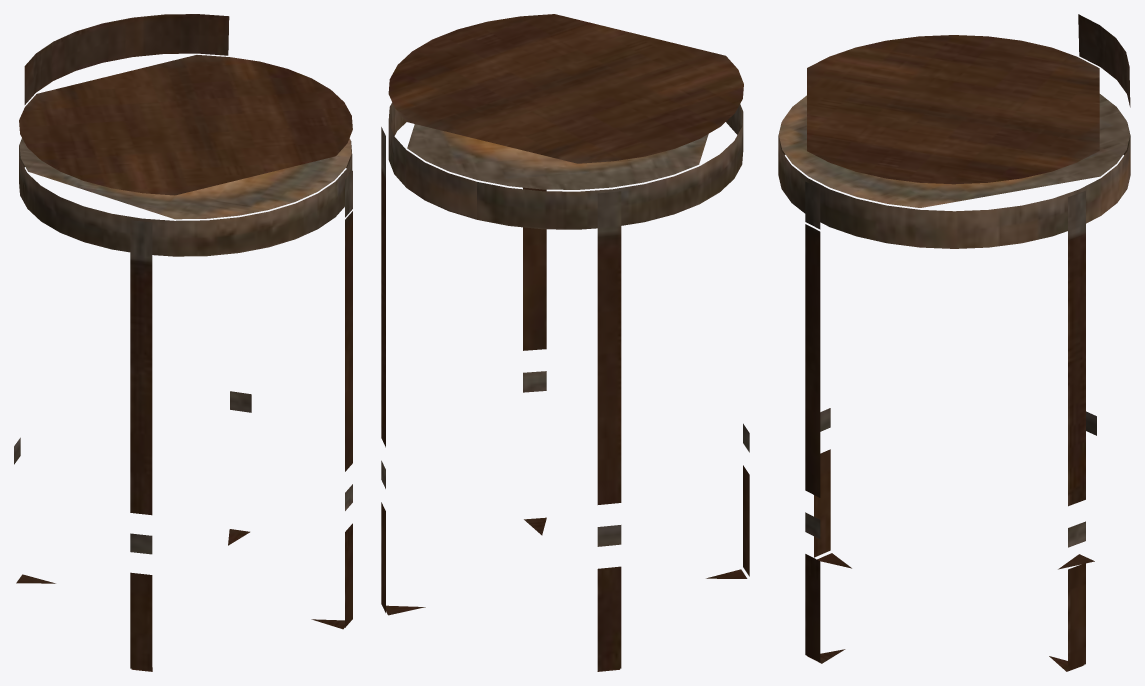
Rendered from ph_bar_chair_round_01.glb.
3 views of the same model, side by side, from view 1: azimuth 30°, elevation 25°; view 2: azimuth 150°, elevation 25°; view 3: azimuth 270°, elevation 25° (orthographic). The views are drawn at different scales.
Visible parts, largest first — view 1: bar_chair_round_01; view 2: bar_chair_round_01; view 3: bar_chair_round_01.
Part boxes in pixels (<box>): bar_chair_round_01: <box>14,14,352,671</box>; bar_chair_round_01: <box>381,14,749,671</box>; bar_chair_round_01: <box>778,14,1130,671</box>.
Size of the model in its own units: 0.4401 by 0.7483 by 0.4393.
Materials: 1 (1 with a texture image).
